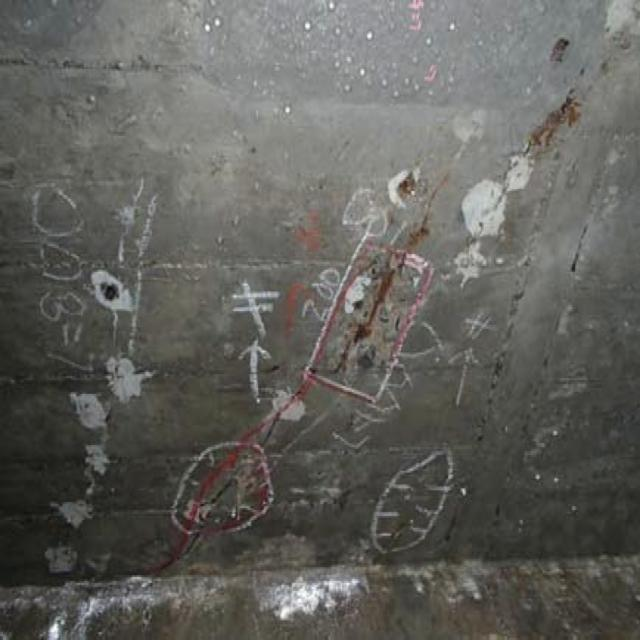freelime: (264, 573, 377, 623)
spalling: (15, 247, 148, 587), (448, 91, 562, 283), (303, 230, 428, 391), (171, 446, 286, 540)
